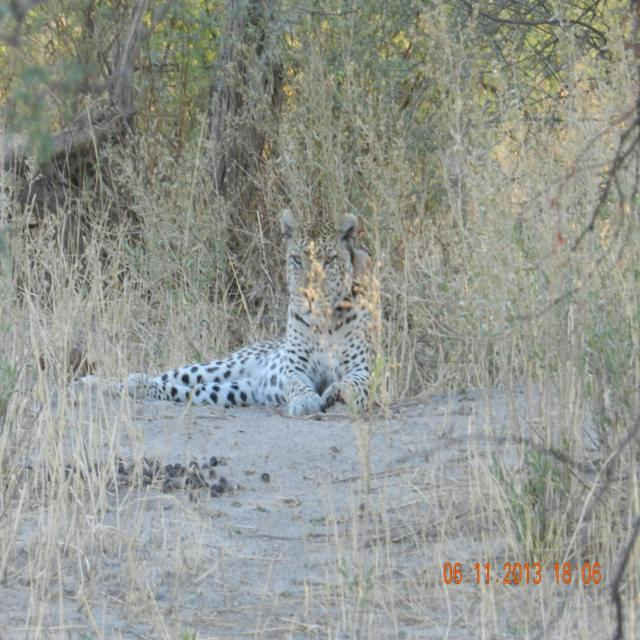Leopard: (69, 203, 378, 425)
